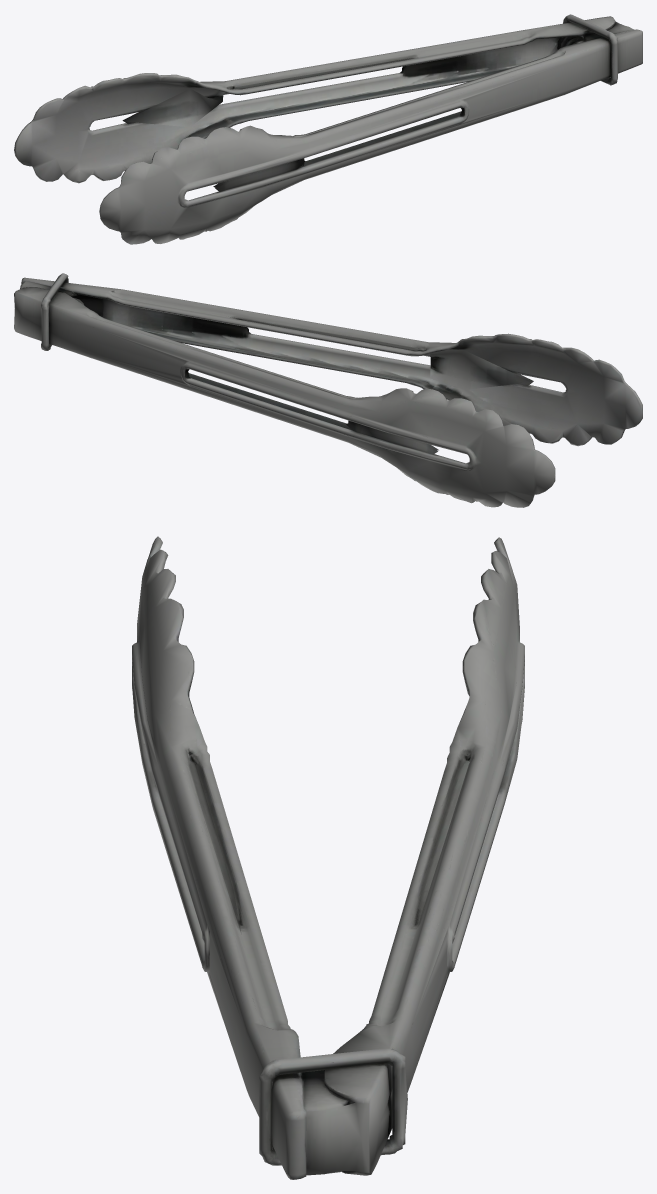
3 renders of one model, top to bottom at view 1: azimuth 30°, elevation 25°; view 2: azimuth 150°, elevation 25°; view 3: azimuth 270°, elevation 25°, orthographic. The views are drawn at different scales.
Visible parts, largest first — view 1: Serving Tongs; view 2: Serving Tongs; view 3: Serving Tongs.
Part boxes in pixels (x1,y1,x2,y2): Serving Tongs: [14, 14, 642, 244]; Serving Tongs: [14, 273, 642, 507]; Serving Tongs: [132, 536, 524, 1179].
Bounding box in the file's own units: 0.998 × 0.166 × 0.2949.
1 material, 1 textured.
